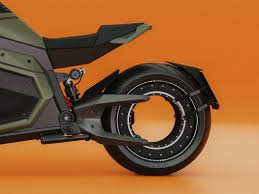motorcycle: (1, 2, 219, 177)
